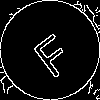F: (25, 25, 77, 80)
